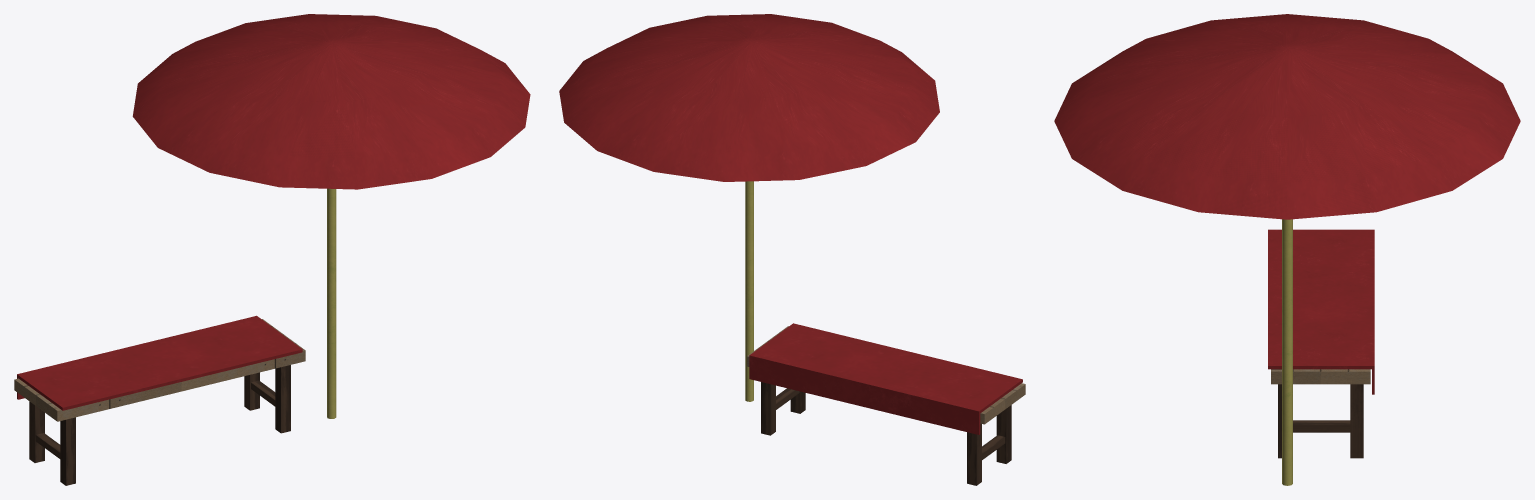
The model's file is HO_Prop_Bench_Tea.fbx.
3 renders of one model, left to right at view 1: azimuth 30°, elevation 25°; view 2: azimuth 150°, elevation 25°; view 3: azimuth 270°, elevation 25°, orthographic. The views are drawn at different scales.
Parts seen in each view (by area): view 1: HO_Prop_Bench_Tea__Cloth_Crimson, HO_Prop_Bench_Tea__Timber_Dark, HO_Prop_Bench_Tea__Wood_Planks, HO_Prop_Bench_Tea__Bamboo; view 2: HO_Prop_Bench_Tea__Cloth_Crimson, HO_Prop_Bench_Tea__Timber_Dark, HO_Prop_Bench_Tea__Bamboo, HO_Prop_Bench_Tea__Wood_Planks; view 3: HO_Prop_Bench_Tea__Cloth_Crimson, HO_Prop_Bench_Tea__Bamboo, HO_Prop_Bench_Tea__Timber_Dark, HO_Prop_Bench_Tea__Wood_Planks.
Boxes of the visible parts, x1,y1,x2,y2 form: HO_Prop_Bench_Tea__Cloth_Crimson: (17,14,530,410); HO_Prop_Bench_Tea__Timber_Dark: (29,365,290,485); HO_Prop_Bench_Tea__Wood_Planks: (14,319,305,421); HO_Prop_Bench_Tea__Bamboo: (327,188,336,418); HO_Prop_Bench_Tea__Cloth_Crimson: (559,14,1022,434); HO_Prop_Bench_Tea__Timber_Dark: (761,382,1011,485); HO_Prop_Bench_Tea__Bamboo: (745,181,753,401); HO_Prop_Bench_Tea__Wood_Planks: (747,326,1025,424); HO_Prop_Bench_Tea__Cloth_Crimson: (1054,14,1520,394); HO_Prop_Bench_Tea__Bamboo: (1282,219,1292,485); HO_Prop_Bench_Tea__Timber_Dark: (1278,384,1363,458); HO_Prop_Bench_Tea__Wood_Planks: (1271,369,1370,384).
Bounding box in the file's own units: 11 × 8.65 × 8.4.
